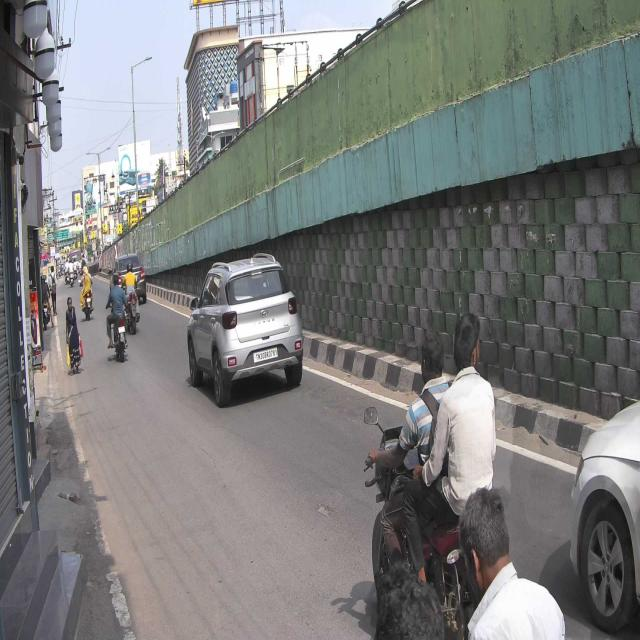double_rider: (364, 307, 500, 593)
